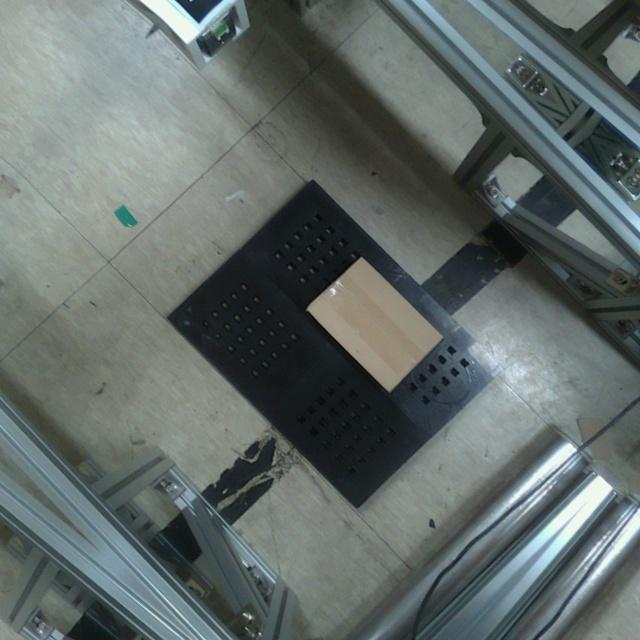box: (296, 248, 452, 401)
pallet: (153, 165, 515, 522)
